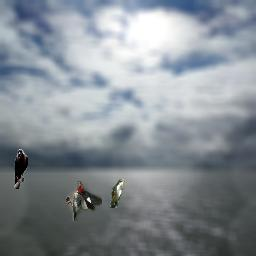Crow: (14, 149, 28, 189)
Cuckoo: (110, 179, 125, 208)
Woodpecker: (66, 181, 102, 221)
